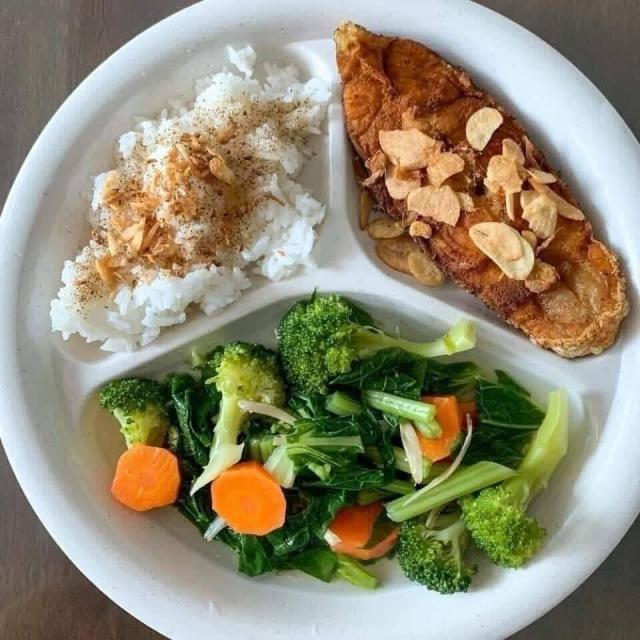Fish: (335, 19, 632, 360)
Plate: (0, 0, 639, 639)
Rice: (40, 50, 342, 356)
Vegetables: (97, 298, 572, 592)
